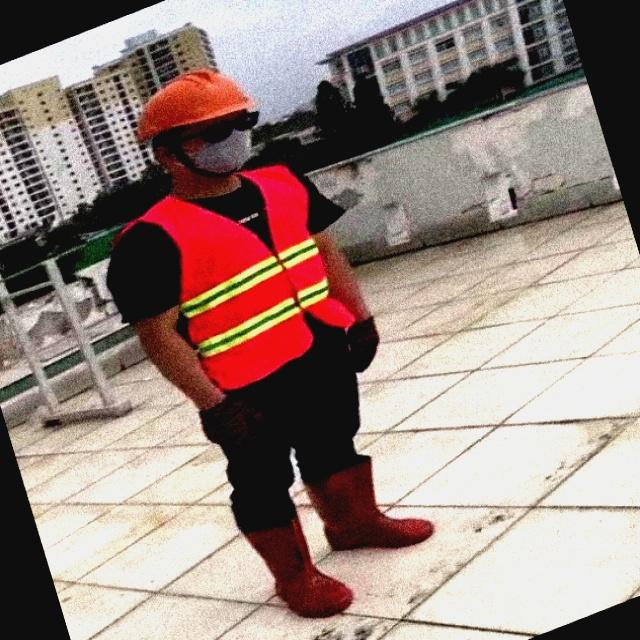helmet: (136, 60, 260, 141)
safety_vest: (116, 162, 357, 404)
